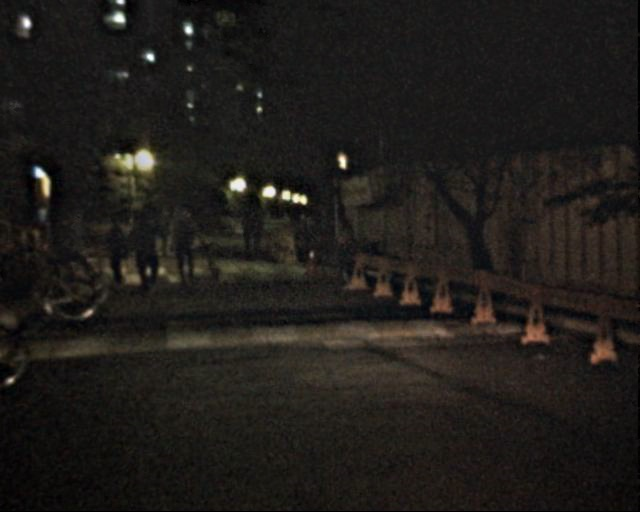person: (57, 209, 90, 290), (99, 211, 131, 289), (170, 208, 201, 284), (129, 212, 160, 287), (326, 215, 357, 290), (154, 205, 175, 255), (235, 209, 253, 254), (246, 210, 263, 252)
